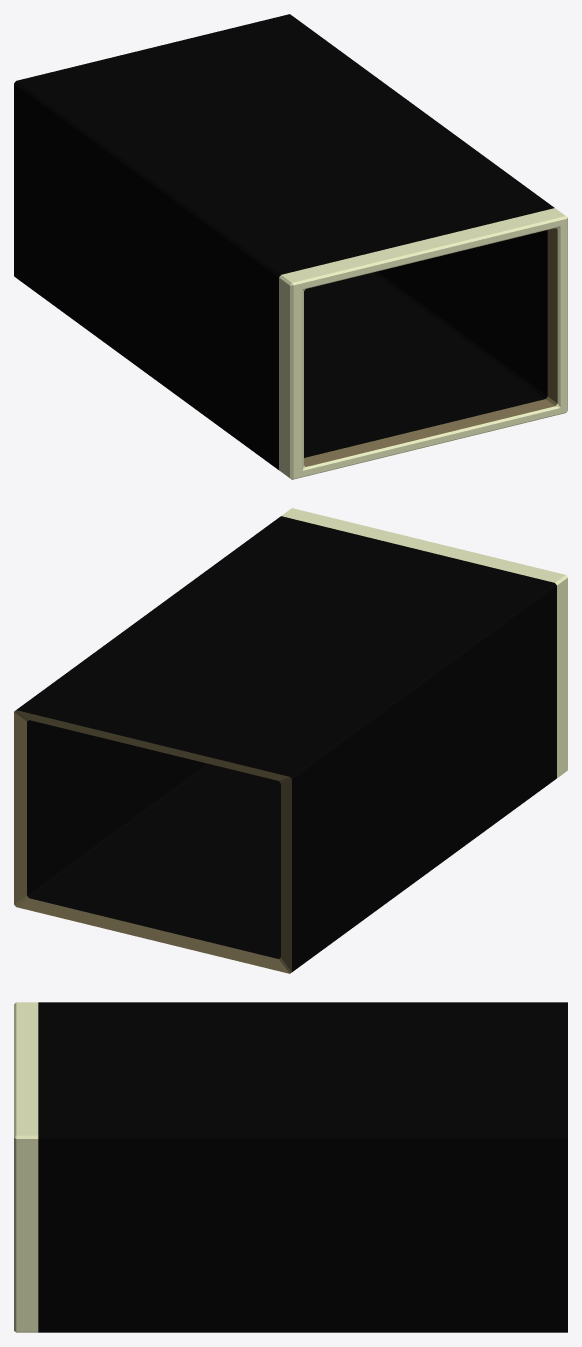
Rendered from Open Vent.fbx.
3 views of the same model, one above another, from view 1: azimuth 30°, elevation 25°; view 2: azimuth 150°, elevation 25°; view 3: azimuth 270°, elevation 25° (orthographic).
Parts seen in each view (by area): view 1: Air Con.001; view 2: Air Con.001; view 3: Air Con.001.
Part boxes in pixels (x1,y1,x2,y2): Air Con.001: (14,14,567,479); Air Con.001: (14,508,567,973); Air Con.001: (14,1002,567,1332).
Size of the model in its own units: 1052 by 713 by 1817.
